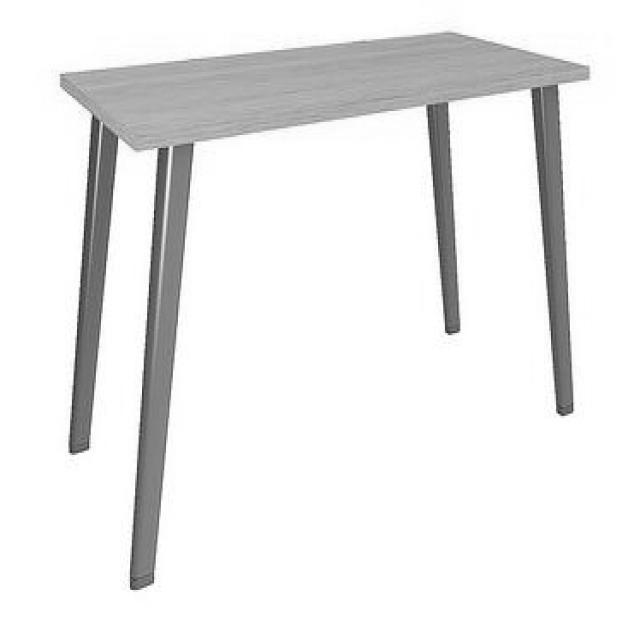table: (60, 30, 588, 588)
